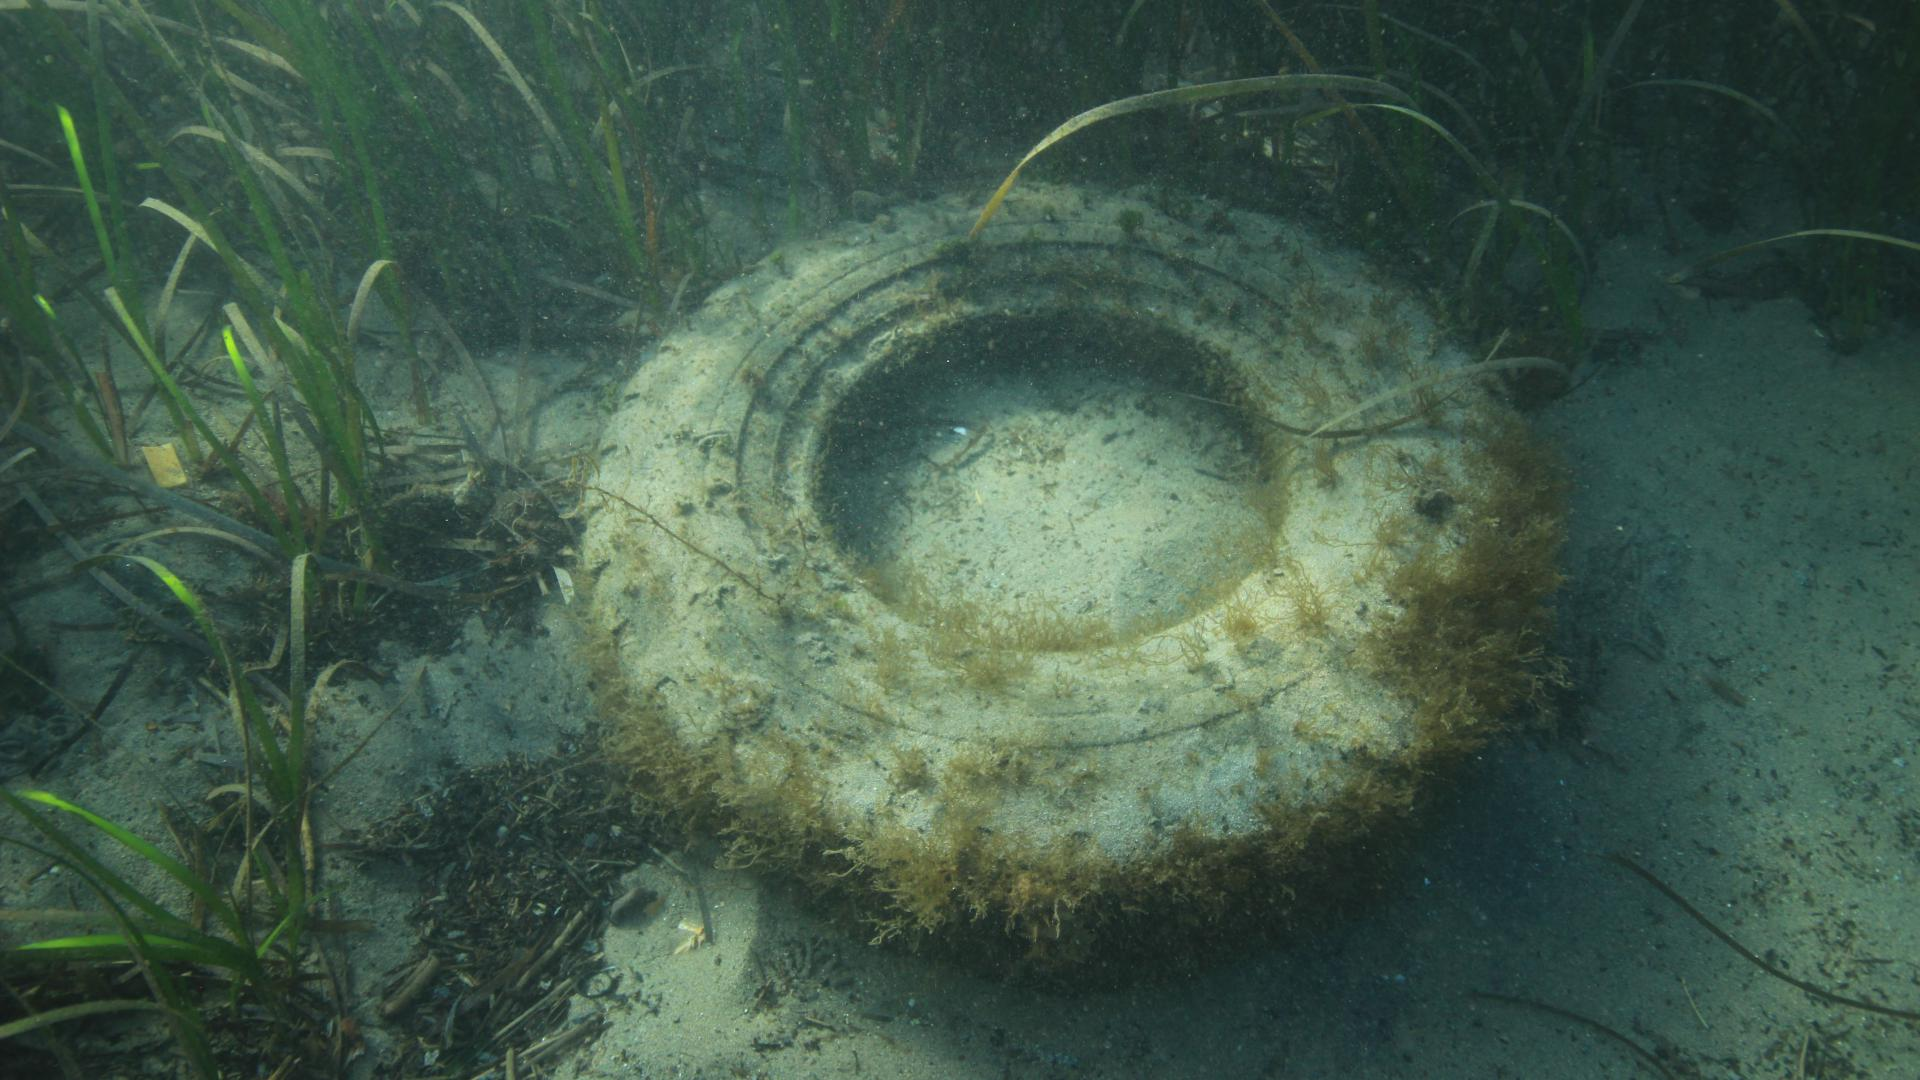tire: (578, 178, 1505, 993)
